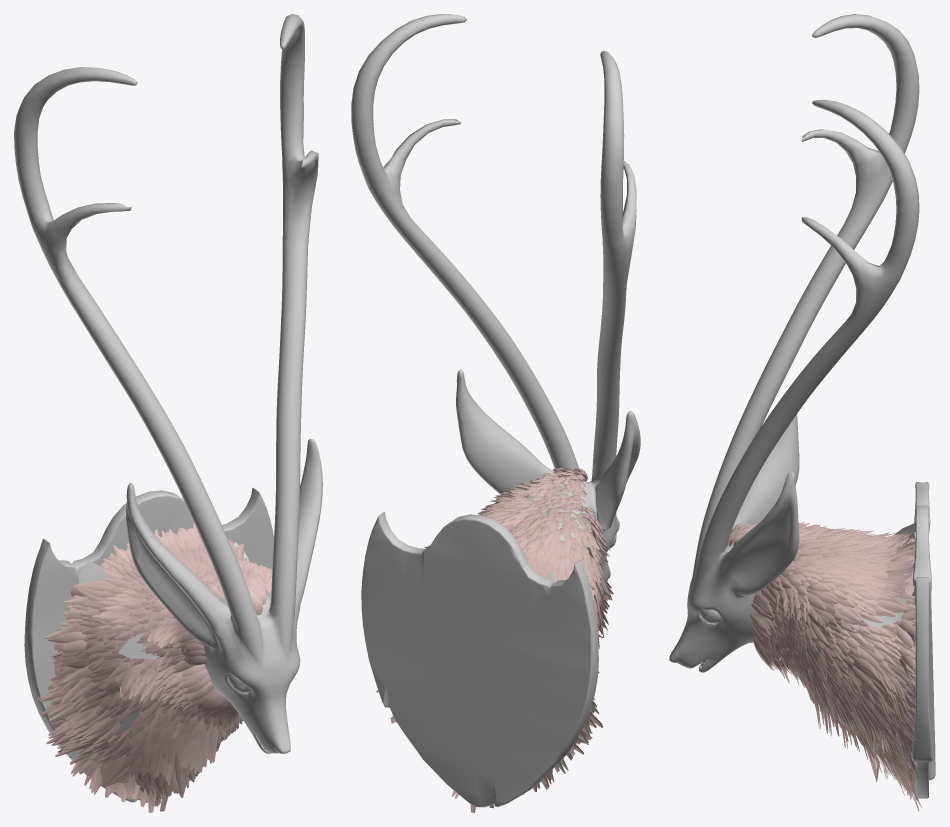
3 renders of one model, left to right at view 1: azimuth 30°, elevation 25°; view 2: azimuth 150°, elevation 25°; view 3: azimuth 270°, elevation 25°, orthographic. The views are drawn at different scales.
Visible parts, largest first — view 1: SM_Taxidermy_Trophy_Head_Deer_03_LOD0; view 2: SM_Taxidermy_Trophy_Head_Deer_03_LOD0; view 3: SM_Taxidermy_Trophy_Head_Deer_03_LOD0.
Boxes of the visible parts, x1,y1,x2,y2 form: SM_Taxidermy_Trophy_Head_Deer_03_LOD0: [14, 14, 322, 812]; SM_Taxidermy_Trophy_Head_Deer_03_LOD0: [351, 14, 640, 812]; SM_Taxidermy_Trophy_Head_Deer_03_LOD0: [669, 14, 935, 811].
Bounding box in the file's own units: 0.9133 × 2.43 × 0.7844.
